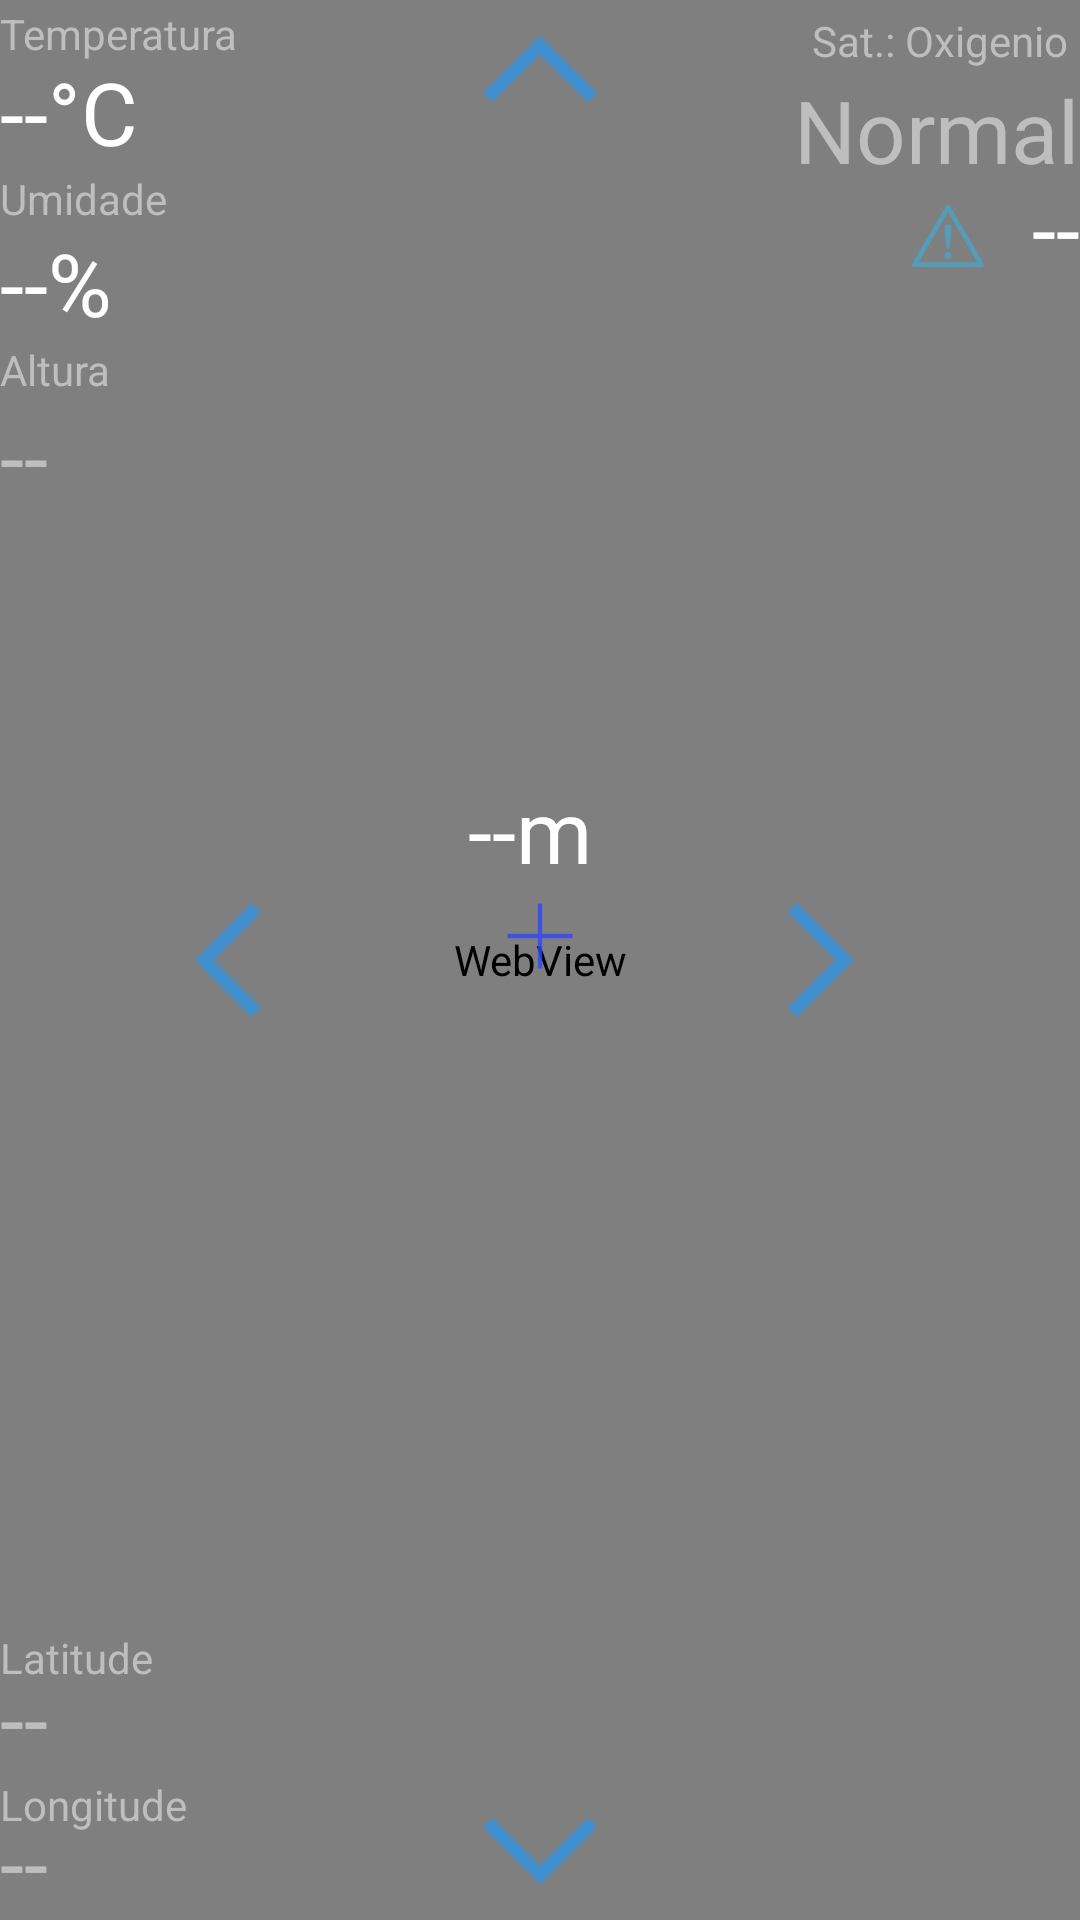

Where icons sit on this 1080×1920 app screen, as (x1, y1, x2, y2):
alert: (912, 205, 984, 267)
direita: (788, 903, 854, 1017)
esquerda: (195, 903, 261, 1017)
frente: (483, 36, 597, 102)
tras: (483, 1818, 597, 1884)
